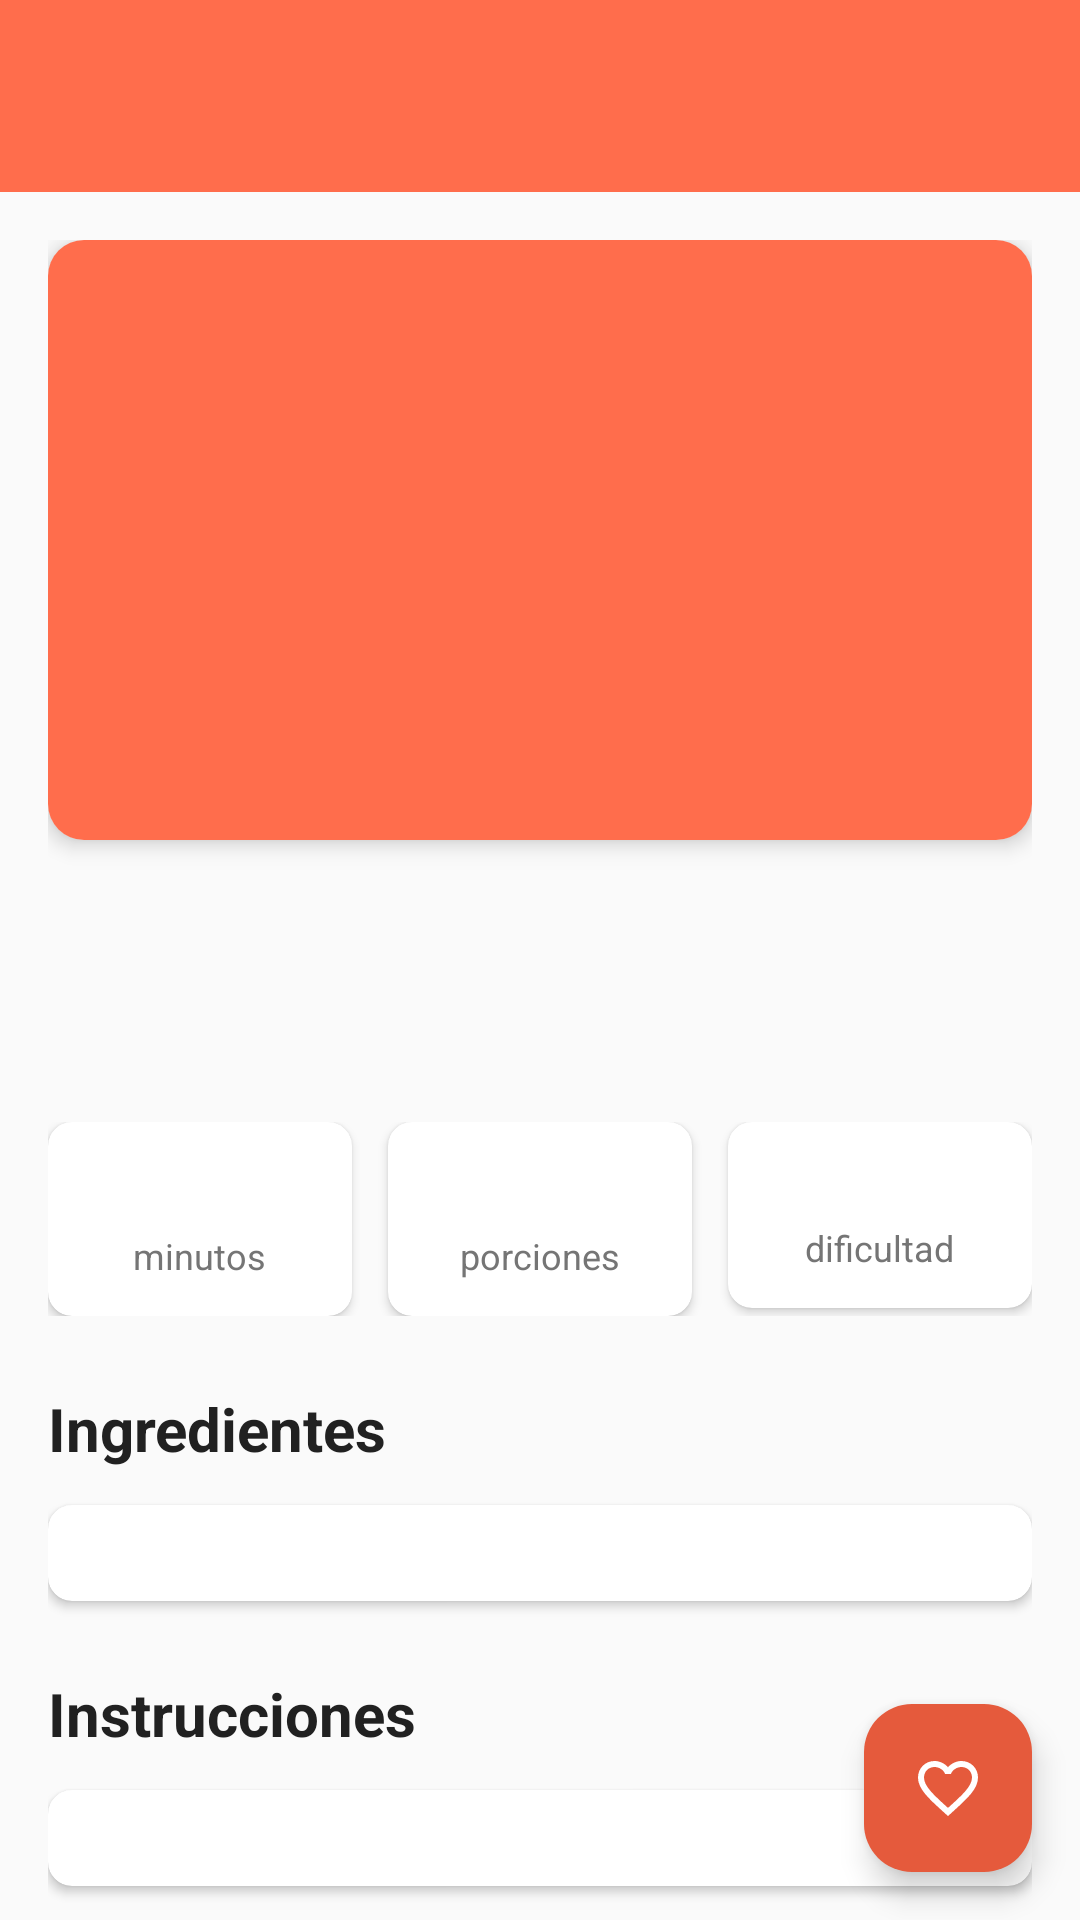

Icon click points for this 1080x1920 phone screenshot, format (x=x, y=y):
Marcar como favorito: (x=948, y=1788)
